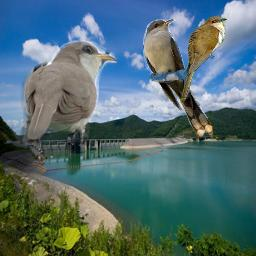Cuckoo: (20, 40, 117, 146), (143, 19, 213, 137), (180, 16, 227, 103)
